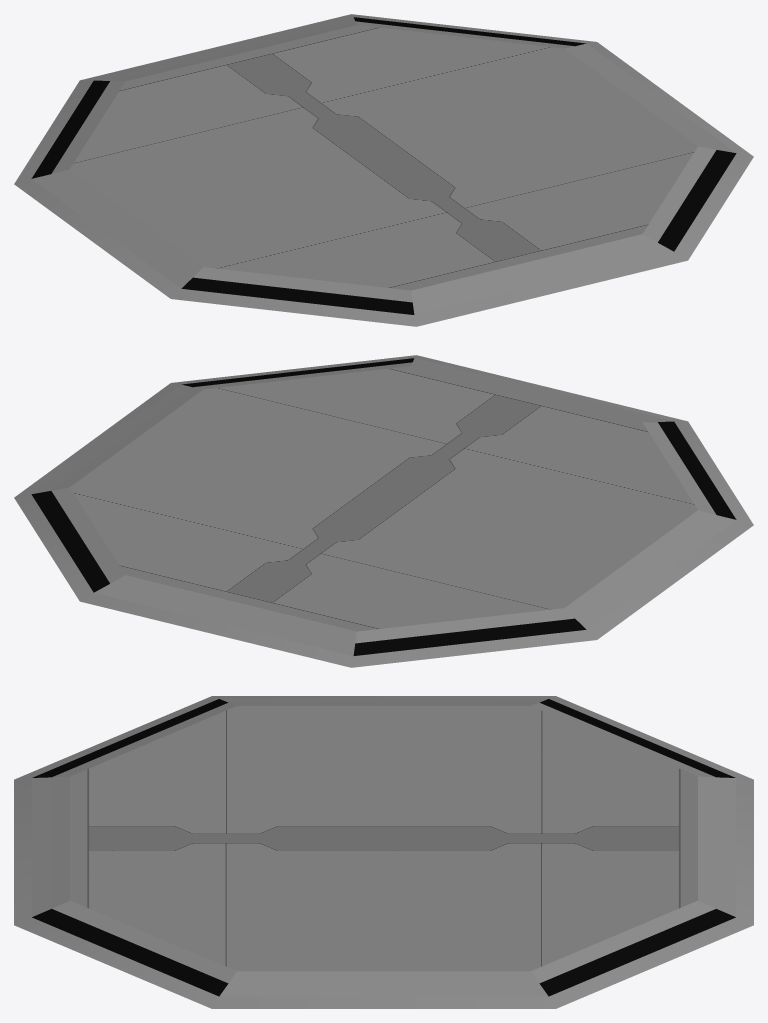
The model's file is SM_Floor_5x5_3.fbx.
The picture shows the model from 3 angles, top to bottom: view 1: azimuth 30°, elevation 25°; view 2: azimuth 150°, elevation 25°; view 3: azimuth 270°, elevation 25°; orthographic projection. The views are drawn at different scales.
Visible parts, largest first — view 1: SM_Floor_5x5_3; view 2: SM_Floor_5x5_3; view 3: SM_Floor_5x5_3.
Boxes of the visible parts, x1,y1,x2,y2 form: SM_Floor_5x5_3: (14, 14, 753, 326); SM_Floor_5x5_3: (14, 355, 753, 667); SM_Floor_5x5_3: (14, 696, 753, 1008).
Size of the model in its own units: 389 by 8.1 by 389.
